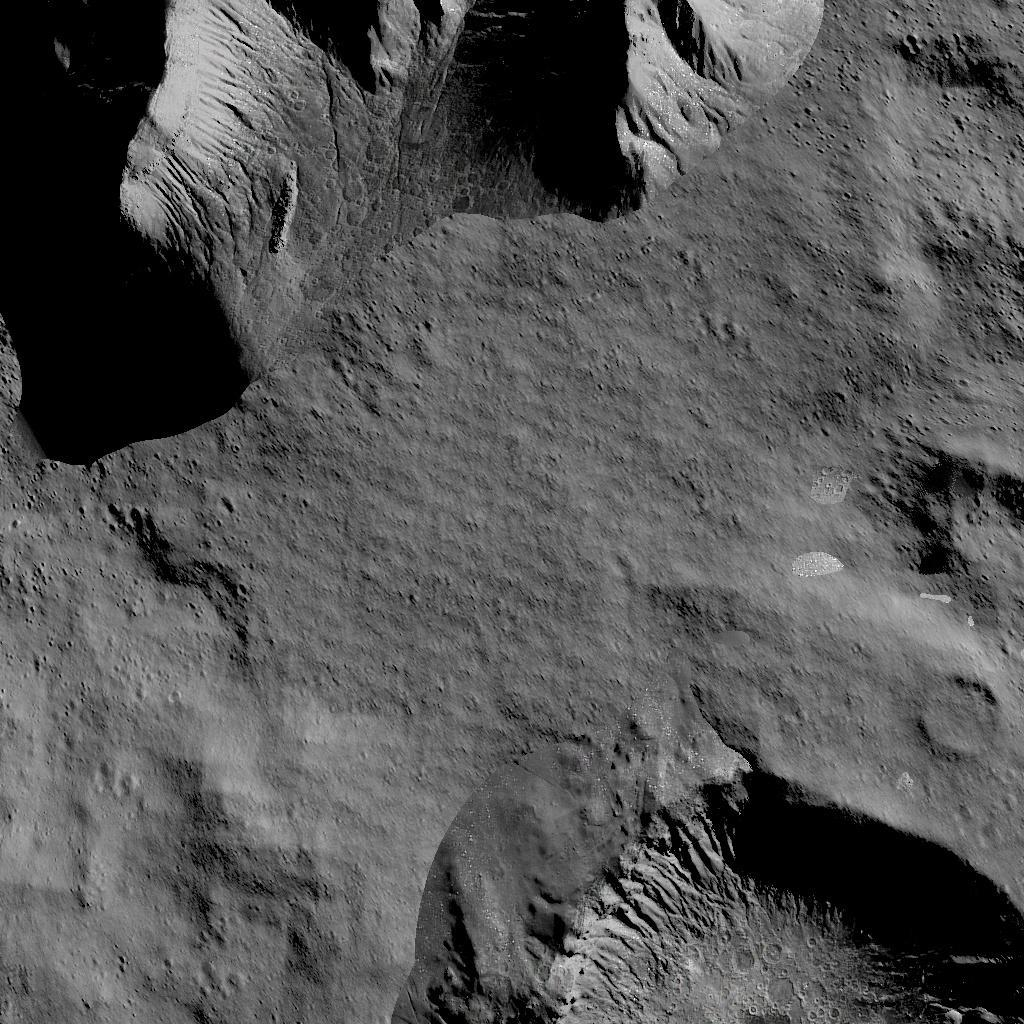Boulders: (66, 0, 828, 392)
Crater: (445, 706, 1024, 1024), (873, 440, 1024, 613)
Plan surface: (12, 465, 404, 1024), (444, 418, 844, 672), (857, 0, 1024, 365)
